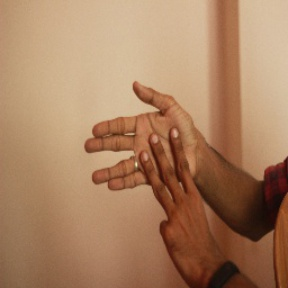M: (82, 79, 211, 232)
